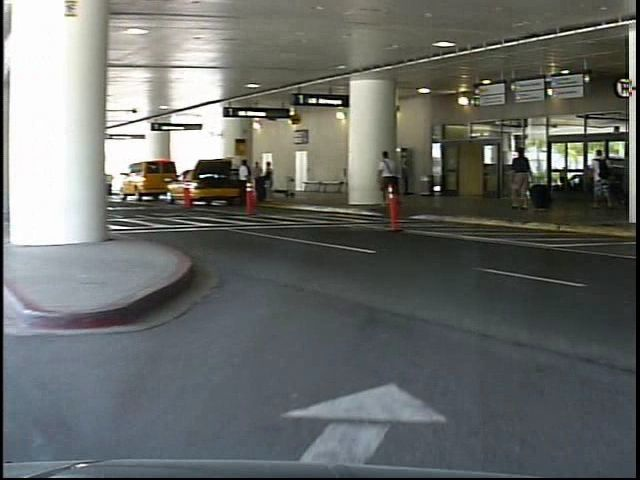person: (512, 142, 540, 210), (379, 147, 405, 213)
